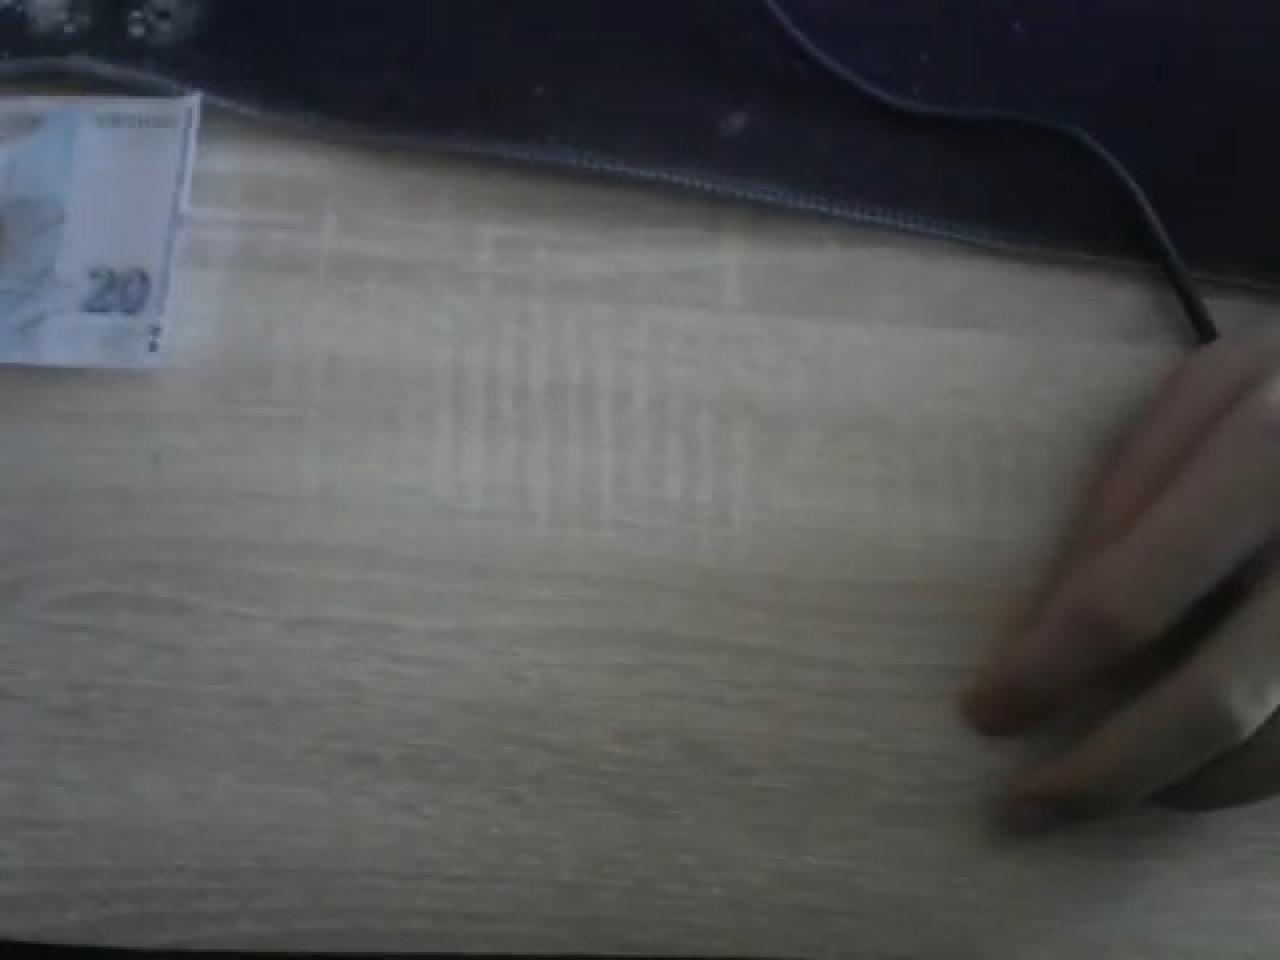20leva: (0, 62, 206, 376)
